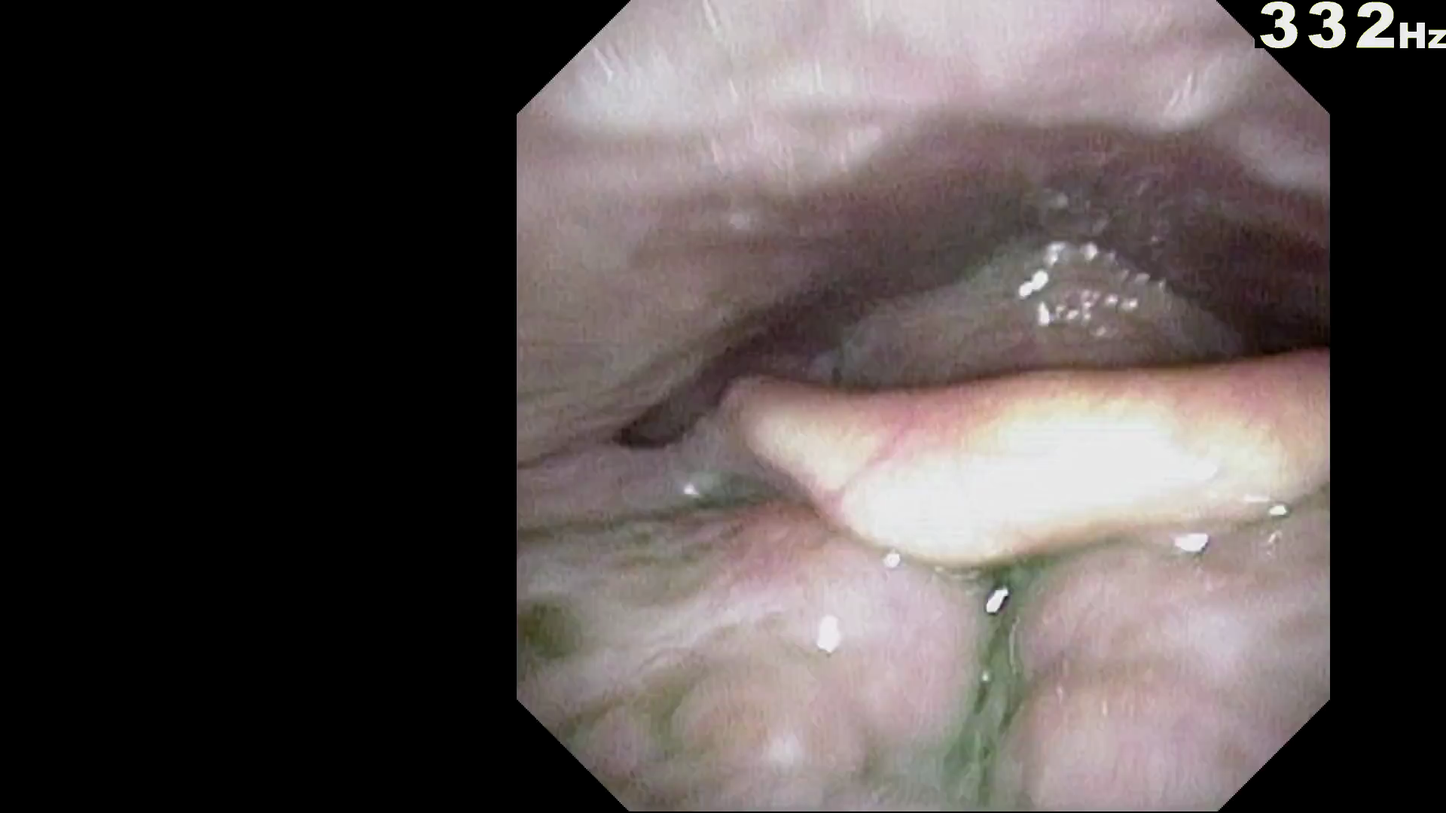epiglottis: (697, 396, 1310, 613)
trachea: (1007, 487, 1128, 607)
